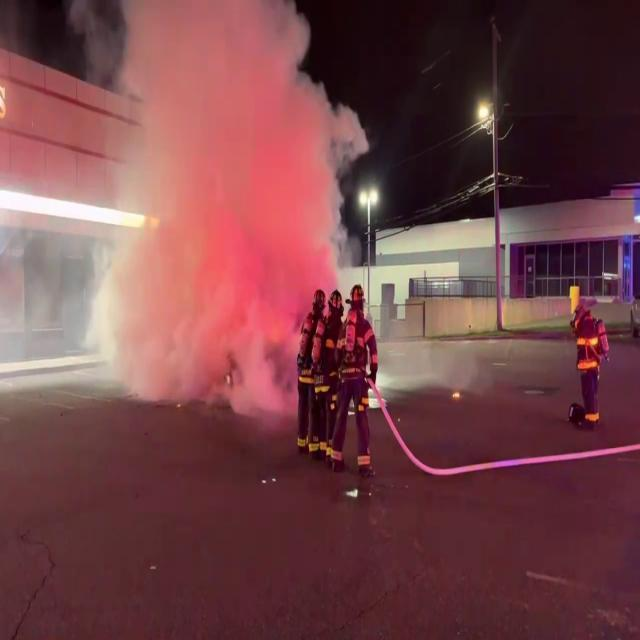Smoke: (112, 0, 358, 427)
